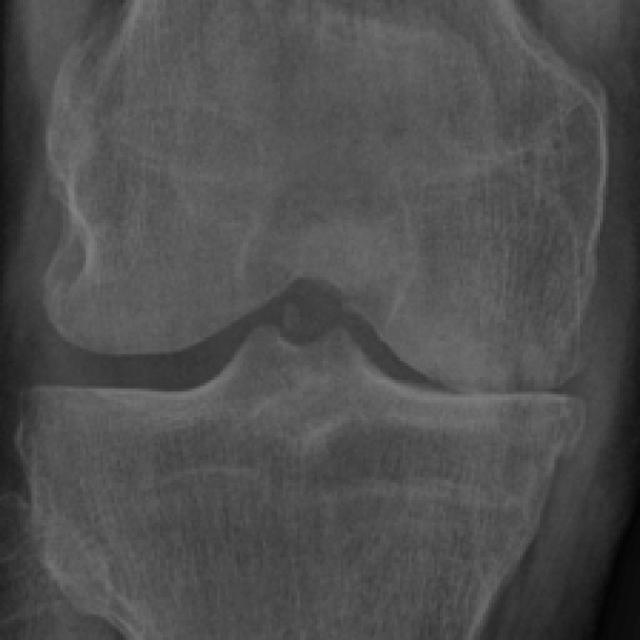femur: (43, 0, 607, 390)
tibia: (10, 331, 585, 640)
